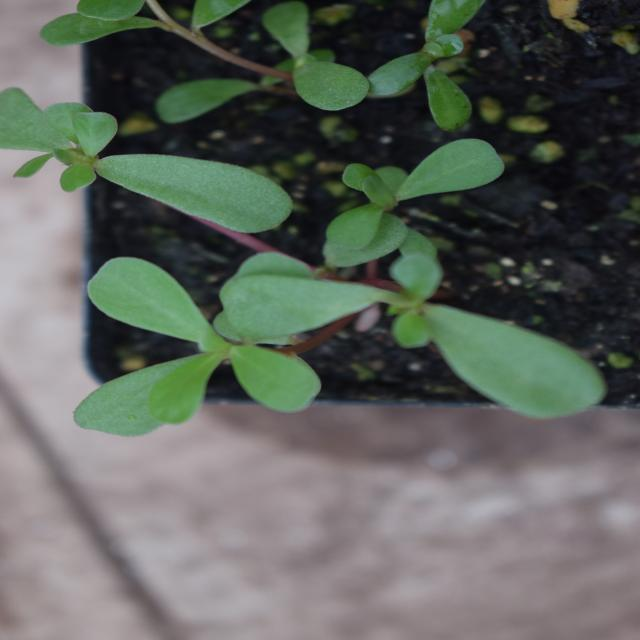purslane: (204, 0, 554, 584)
